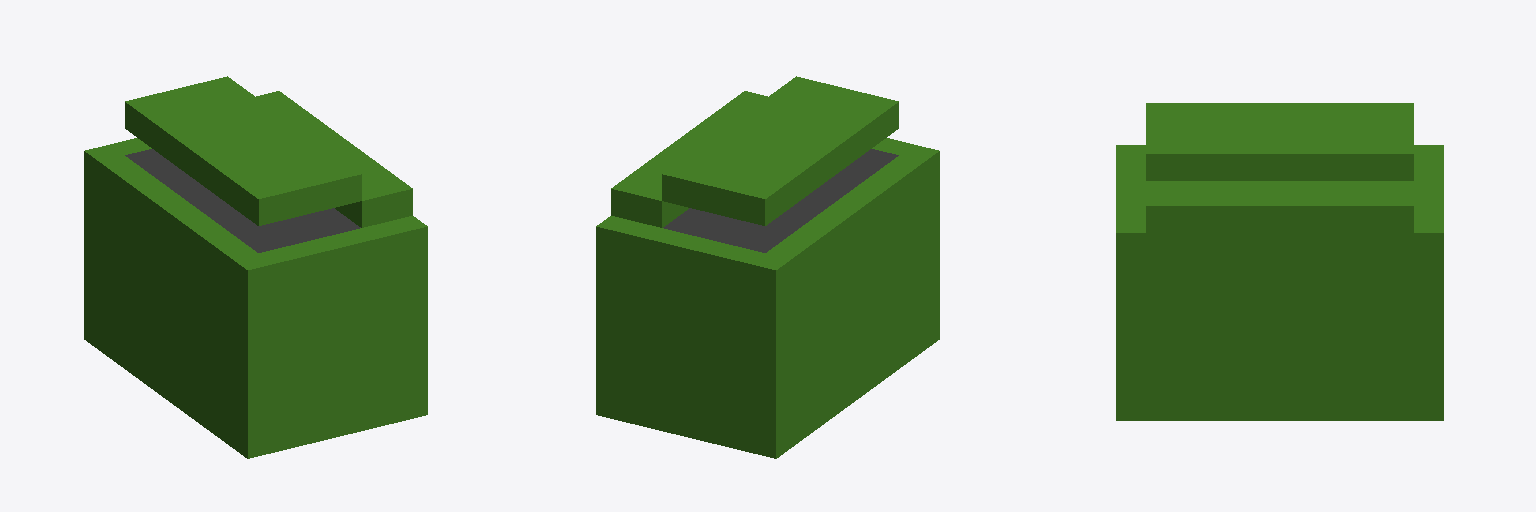
3 renders of one model, left to right at view 1: azimuth 30°, elevation 25°; view 2: azimuth 150°, elevation 25°; view 3: azimuth 270°, elevation 25°, orthographic.
Visible parts, largest first — view 1: object 1; view 2: object 1; view 3: object 1.
Part boxes in pixels (x1,y1,x2,y2): object 1: (84,76,427,458); object 1: (596,76,939,458); object 1: (1116,103,1443,420).
Bounding box in the file's own units: 0.7 × 0.9 × 1.1.
Materials: 1 (1 with a texture image).